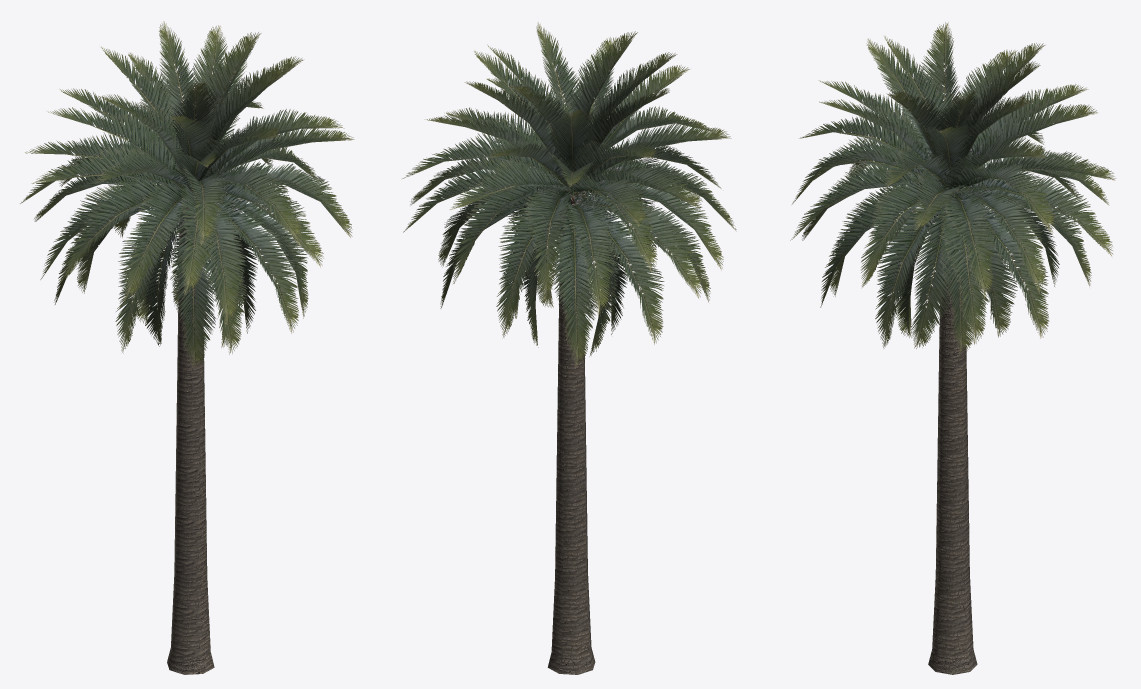
File: palm_tree_web.glb
The picture shows the model from 3 angles, left to right: view 1: azimuth 30°, elevation 25°; view 2: azimuth 150°, elevation 25°; view 3: azimuth 270°, elevation 25°; orthographic projection.
Visible parts, largest first — view 1: palm3; view 2: palm3; view 3: palm3.
Part boxes in pixels (left/top/right/bottom): palm3: left=20, top=21, right=354, bottom=674; palm3: left=402, top=22, right=736, bottom=674; palm3: left=790, top=22, right=1116, bottom=674.
Bounding box in the file's own units: 9.09 × 17.78 × 9.03.
Materials: 1 (1 with a texture image).
